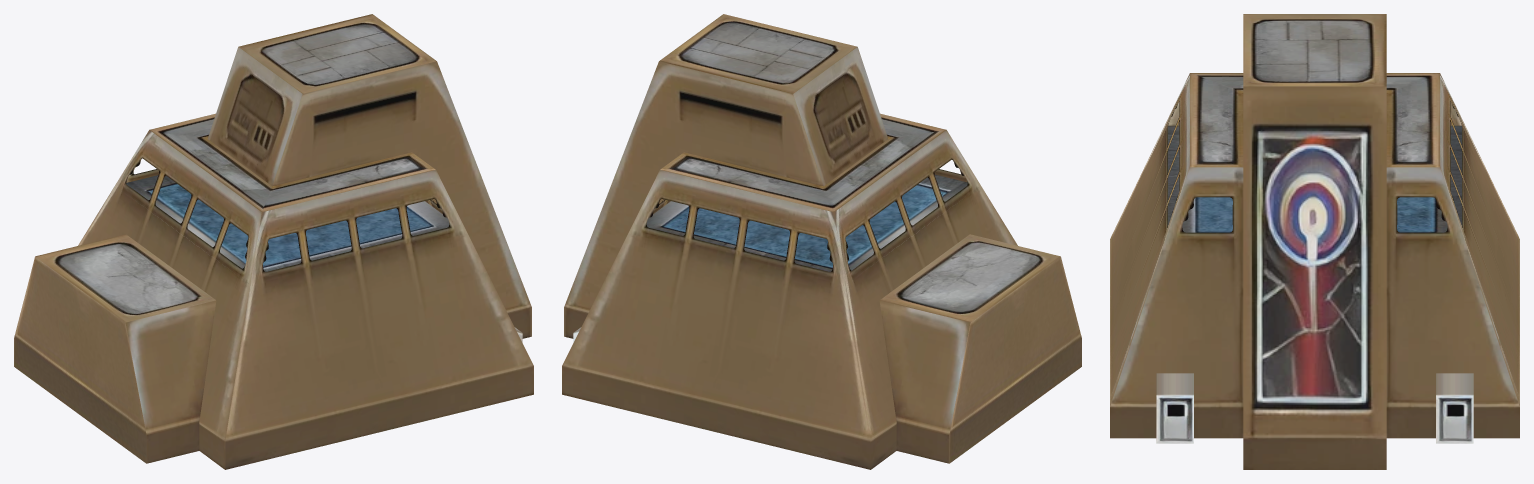
Rendered from hpg_office_hdtex.glb.
The picture shows the model from 3 angles, left to right: view 1: azimuth 30°, elevation 25°; view 2: azimuth 150°, elevation 25°; view 3: azimuth 270°, elevation 25°; orthographic projection. The views are drawn at different scales.
Visible parts, largest first — view 1: HPG Ziggurat; view 2: HPG Ziggurat; view 3: HPG Ziggurat.
Part boxes in pixels (x1,y1,x2,y2): HPG Ziggurat: (14,14,533,469); HPG Ziggurat: (562,14,1081,469); HPG Ziggurat: (1110,14,1519,469).
Size of the model in its own units: 23.44 by 15.94 by 17.85.
Materials: 2 (2 with a texture image).
